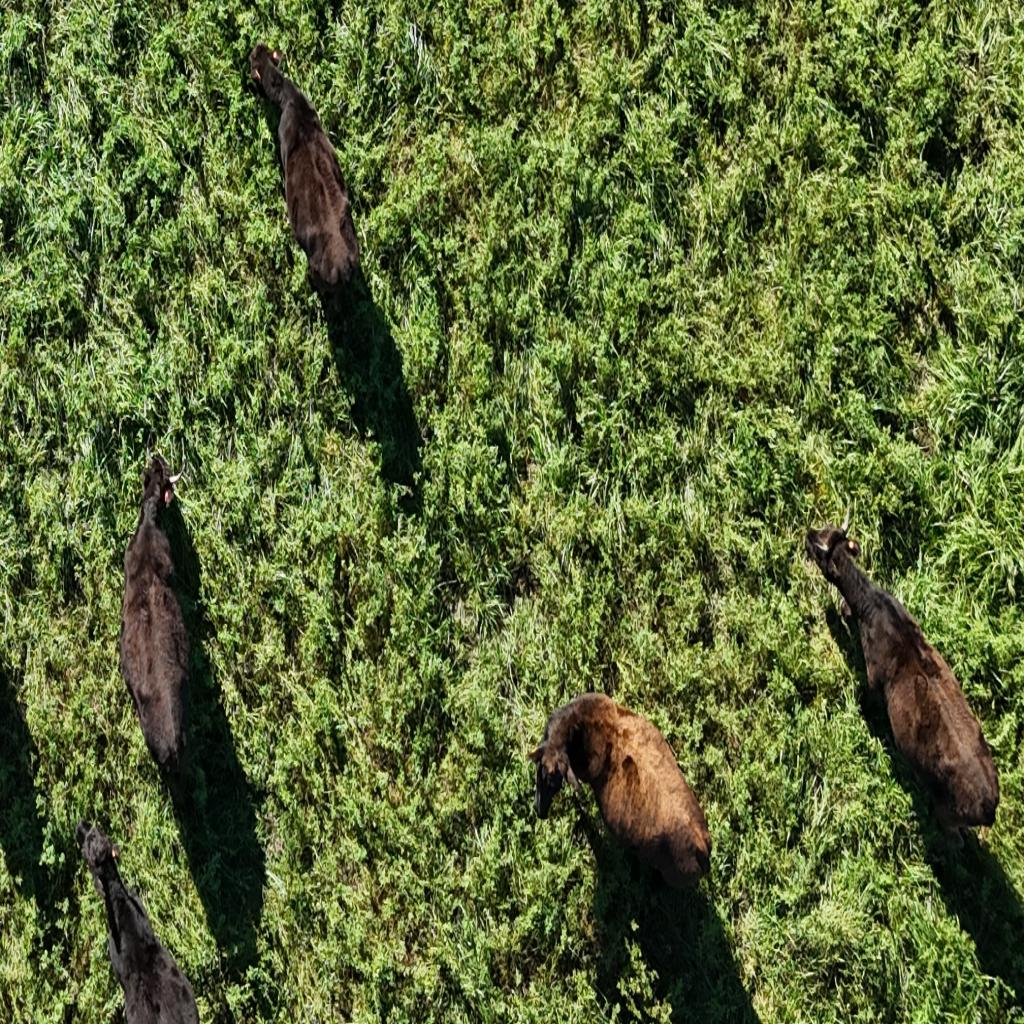cow: (791, 502, 1005, 866), (525, 687, 717, 895), (240, 34, 370, 317), (113, 436, 198, 793), (72, 815, 206, 1024)
